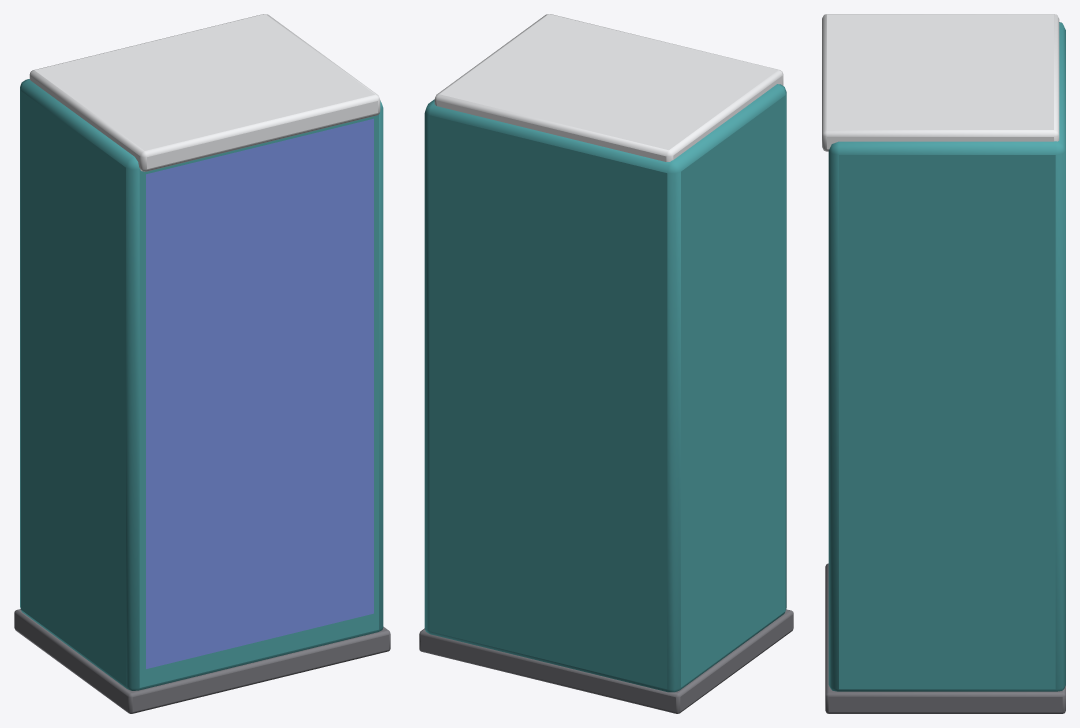
The model's file is vending_machine_b.glb.
3 renders of one model, left to right at view 1: azimuth 30°, elevation 25°; view 2: azimuth 150°, elevation 25°; view 3: azimuth 270°, elevation 25°, orthographic. The views are drawn at different scales.
Parts seen in each view (by area): view 1: vending_machine_b; view 2: vending_machine_b; view 3: vending_machine_b.
Part boxes in pixels (bbox=[...]): vending_machine_b: bbox=[14, 14, 390, 713]; vending_machine_b: bbox=[419, 14, 793, 713]; vending_machine_b: bbox=[822, 14, 1065, 713].
Size of the model in its own units: 0.92 by 1.88 by 0.72.
